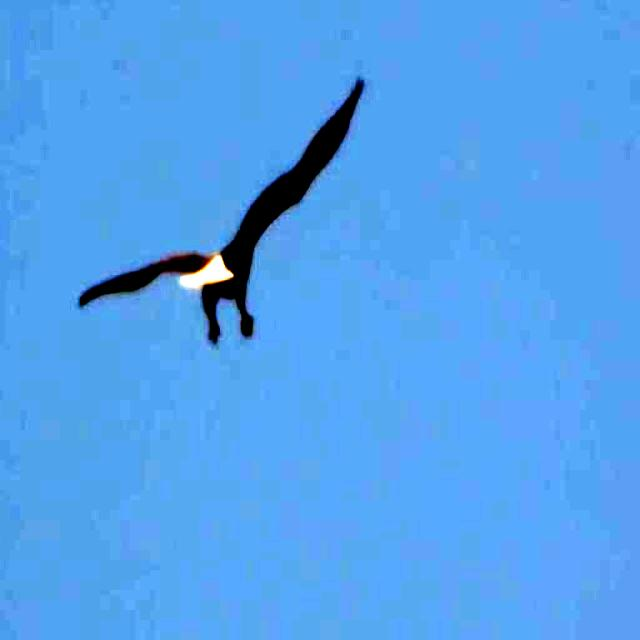airplane: (90, 75, 369, 365)
